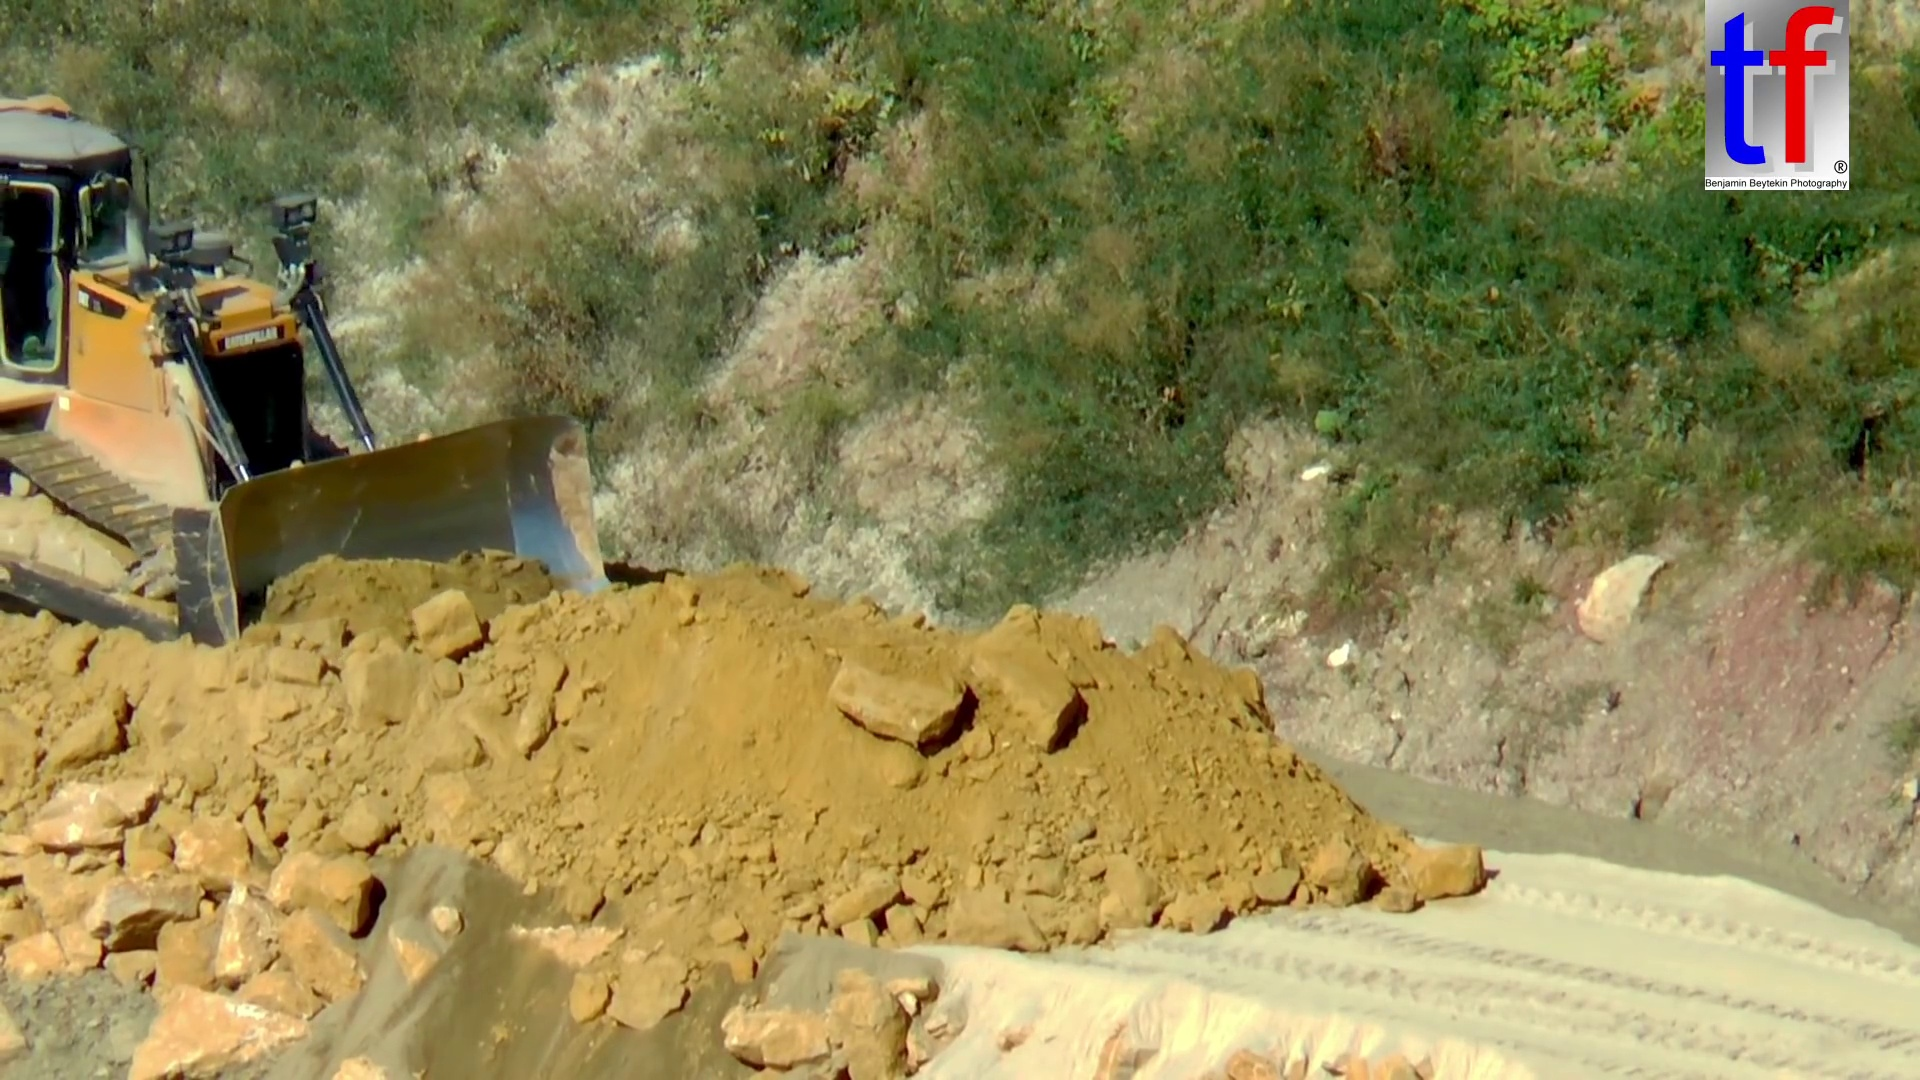bulldozer: (5, 95, 624, 673)
